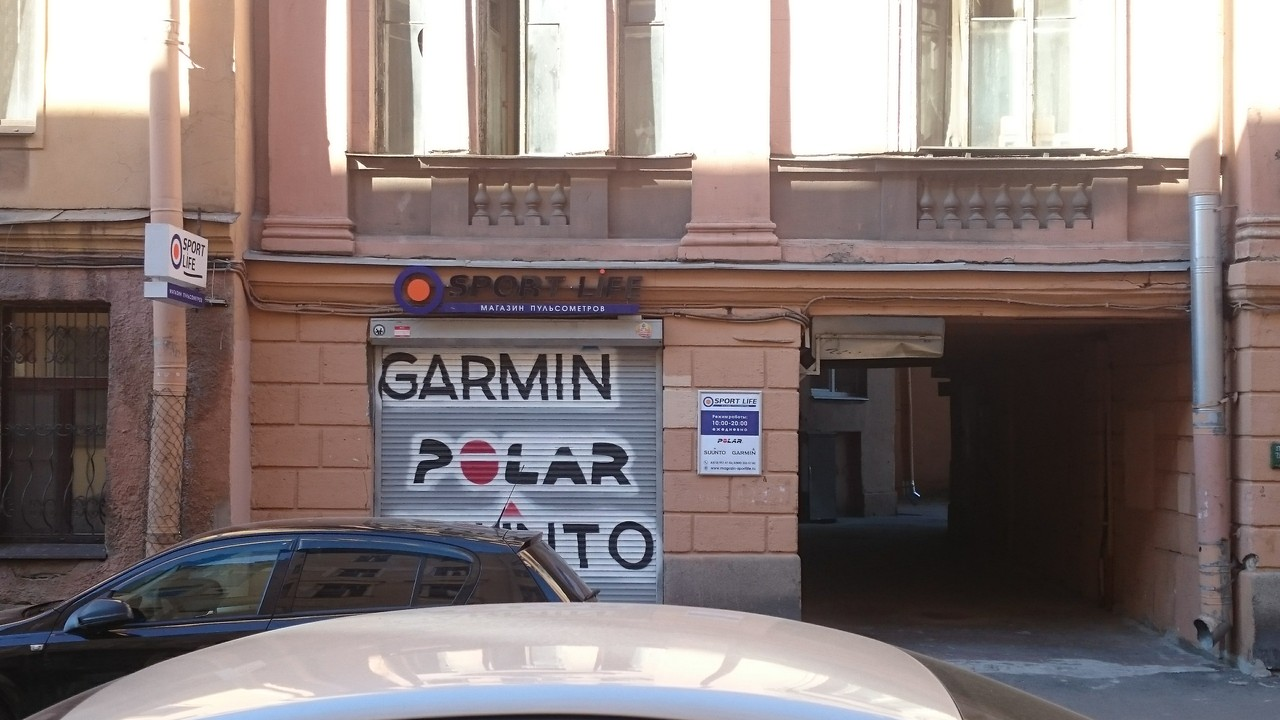arch: (795, 309, 1237, 665)
cantilever: (145, 222, 219, 307)
signboard: (392, 266, 647, 319)
